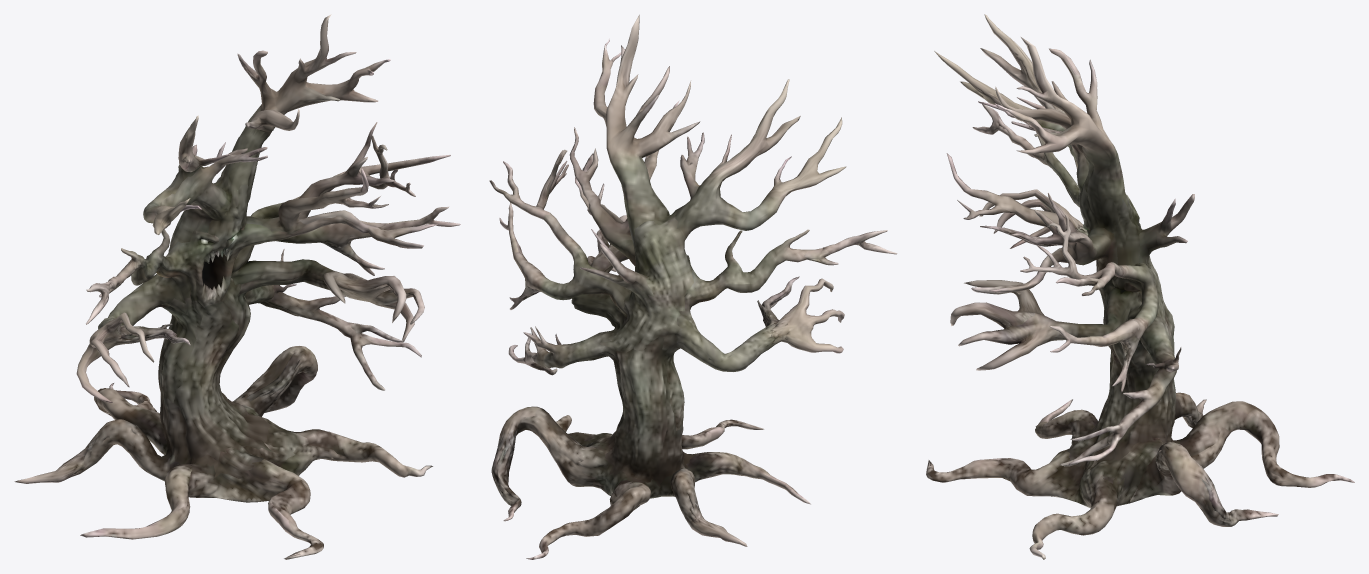
File: MZ4250 - Treant_Blighted_25.glb
3 renders of one model, left to right at view 1: azimuth 30°, elevation 25°; view 2: azimuth 150°, elevation 25°; view 3: azimuth 270°, elevation 25°, orthographic. The views are drawn at different scales.
Visible parts, largest first — view 1: ORGANIC BASE SPHERE.001; view 2: ORGANIC BASE SPHERE.001; view 3: ORGANIC BASE SPHERE.001.
Part boxes in pixels (<box>): ORGANIC BASE SPHERE.001: <box>14,14,460,559</box>; ORGANIC BASE SPHERE.001: <box>489,14,897,559</box>; ORGANIC BASE SPHERE.001: <box>926,14,1354,559</box>.
Size of the model in its own units: 189 by 214 by 176.
1 material, 1 textured.
